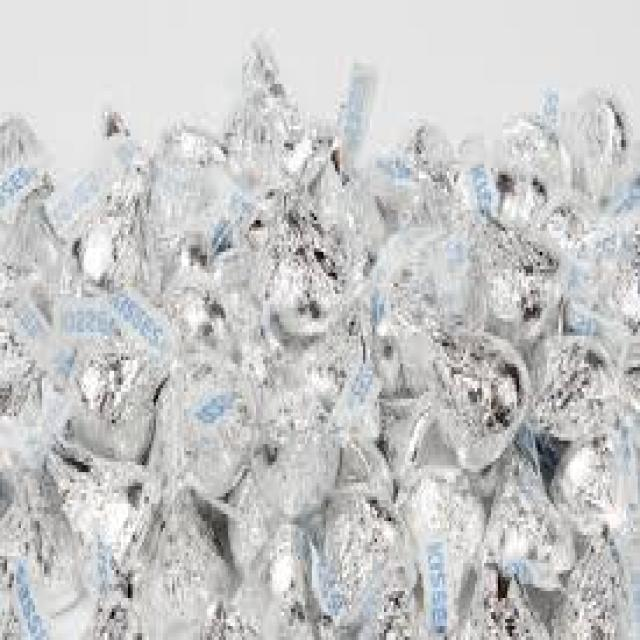kisses: (417, 299, 534, 477), (227, 30, 334, 214), (14, 456, 113, 640), (342, 239, 470, 380), (163, 326, 259, 510), (43, 114, 155, 271), (309, 479, 420, 629), (120, 476, 233, 622), (460, 101, 571, 248), (475, 448, 581, 594), (513, 298, 621, 440), (259, 190, 349, 356), (399, 456, 487, 618), (359, 105, 463, 238), (250, 384, 344, 515), (76, 337, 164, 468), (242, 510, 330, 640), (0, 112, 67, 281), (560, 85, 640, 226), (143, 156, 243, 266)
